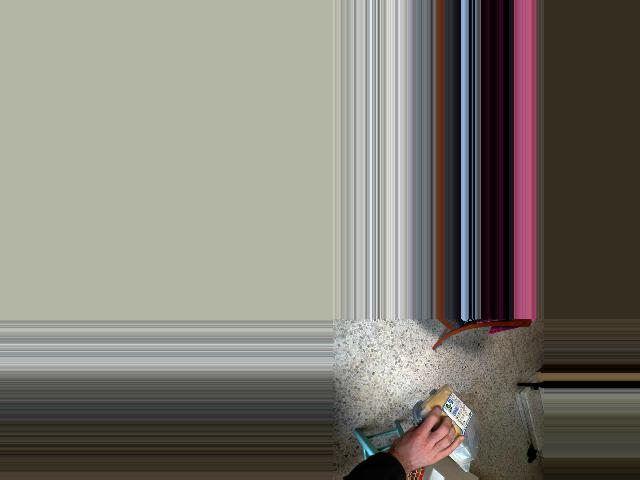cheese: (427, 387, 474, 474)
